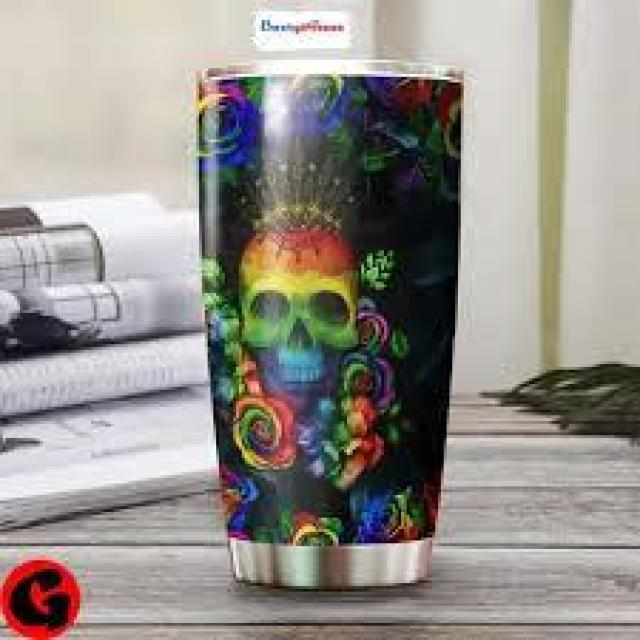bottle: (191, 62, 472, 594)
